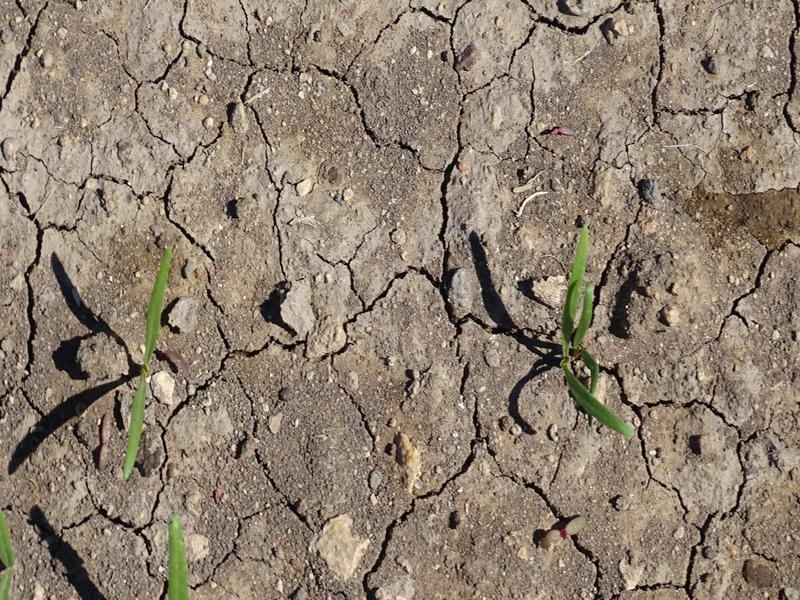Espinaca: (547, 230, 645, 437), (114, 249, 174, 482), (161, 513, 196, 594)
